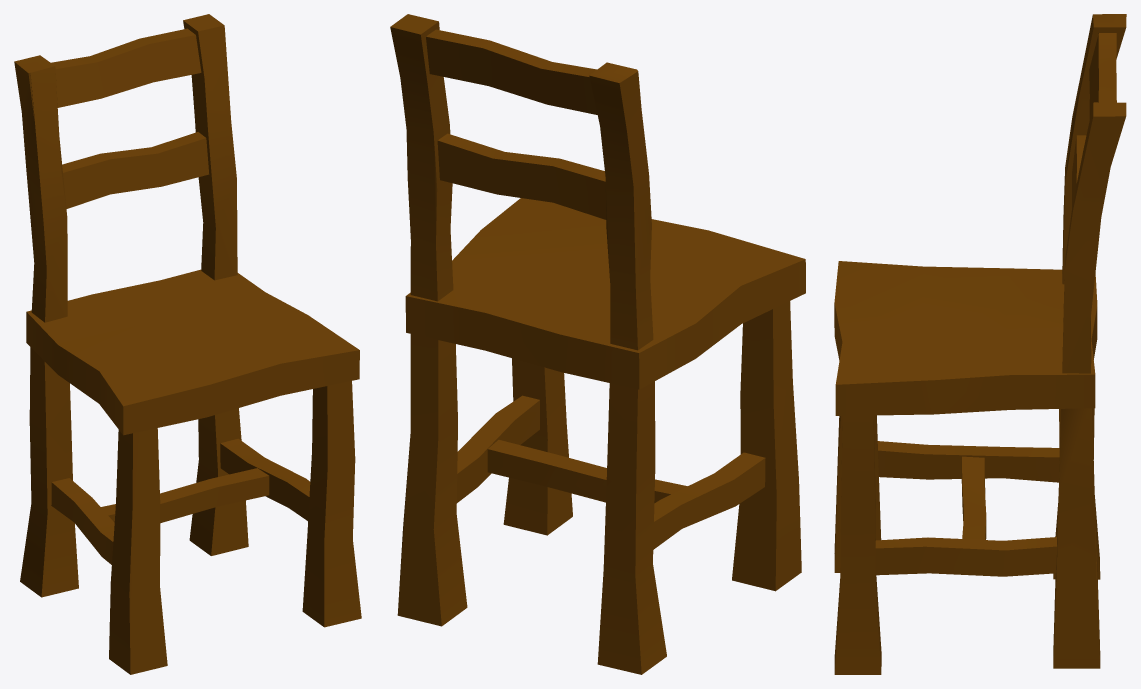
Rendered from chair.fbx.
3 renders of one model, left to right at view 1: azimuth 30°, elevation 25°; view 2: azimuth 150°, elevation 25°; view 3: azimuth 270°, elevation 25°, orthographic. The views are drawn at different scales.
Parts seen in each view (by area): view 1: Chair_Cube.010; view 2: Chair_Cube.010; view 3: Chair_Cube.010.
Boxes of the visible parts, x1,y1,x2,y2 form: Chair_Cube.010: (14, 14, 361, 674); Chair_Cube.010: (390, 14, 805, 674); Chair_Cube.010: (834, 14, 1126, 674).
Size of the model in its own units: 44.97 by 92.56 by 44.58.
